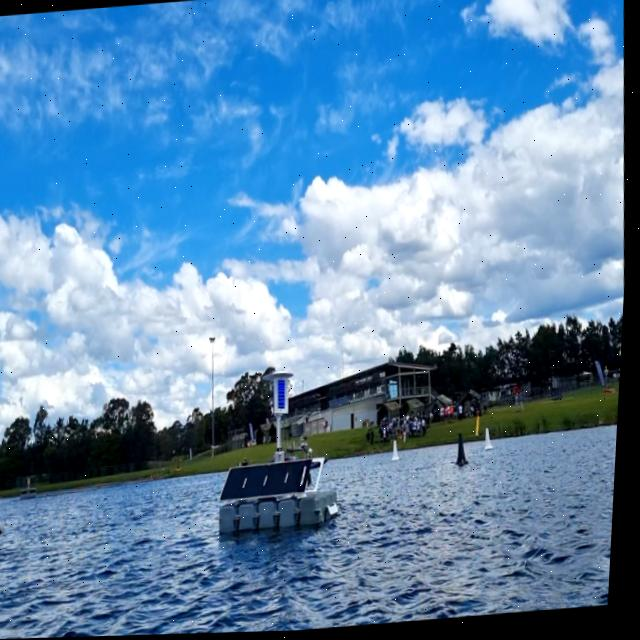led: (278, 378, 293, 414)
